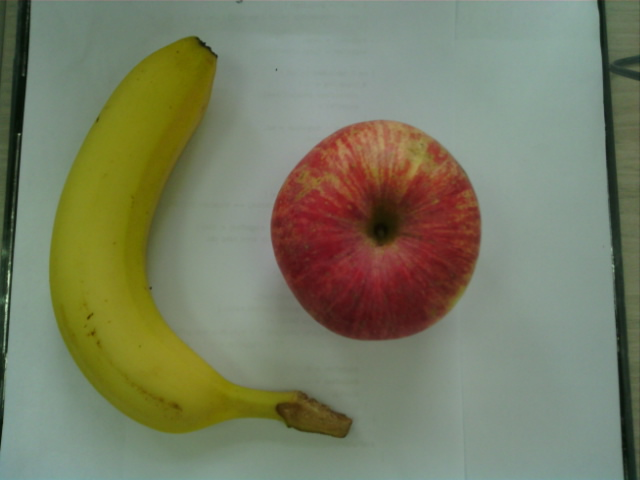normal_apple: (269, 121, 484, 343)
normal_banana: (50, 37, 341, 438)
